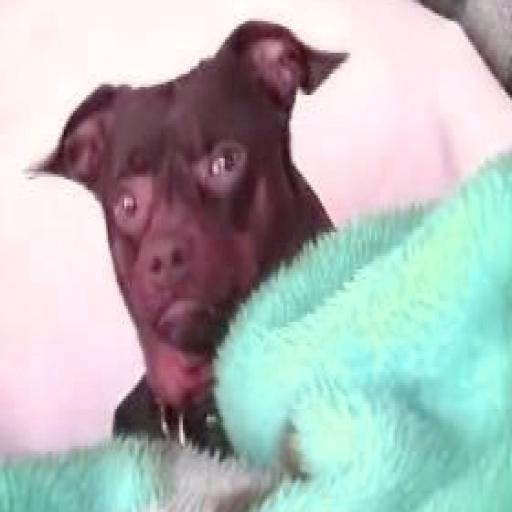dog_face: (40, 17, 326, 352)
